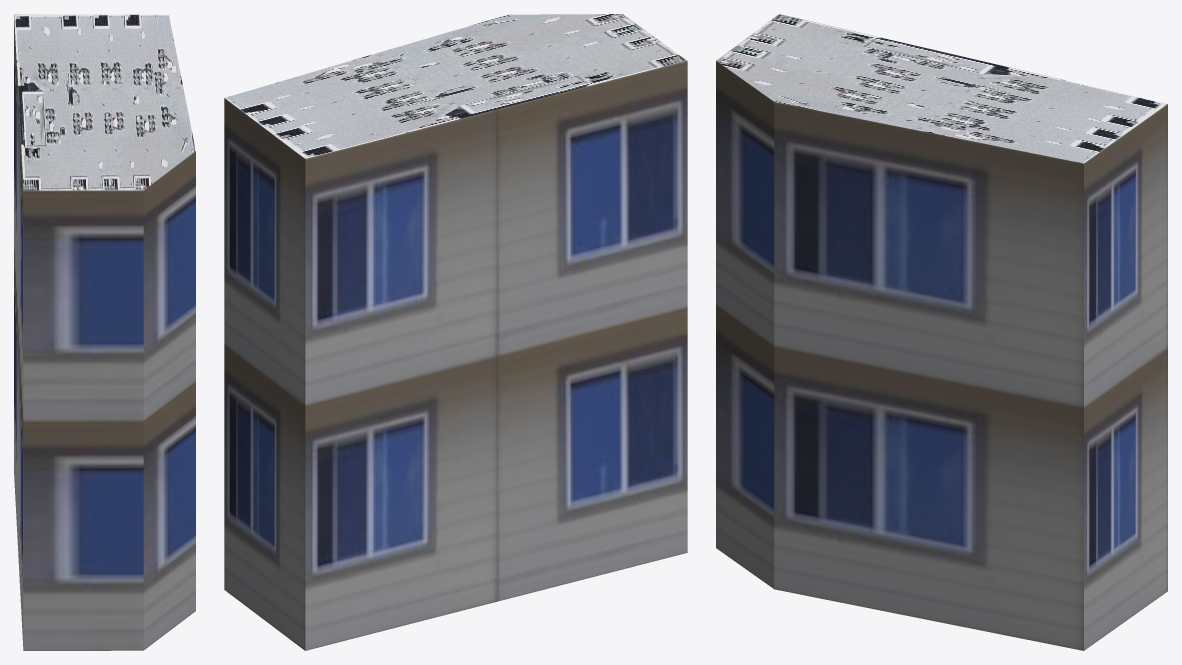
The model's file is ResTex__1209.fbx.
3 views of the same model, side by side, from view 1: azimuth 30°, elevation 25°; view 2: azimuth 150°, elevation 25°; view 3: azimuth 270°, elevation 25° (orthographic). The views are drawn at different scales.
Parts seen in each view (by area): view 1: CityEngineMaterial_23_m, CityEngineMaterial_8_m; view 2: CityEngineMaterial_23_m, CityEngineMaterial_8_m; view 3: CityEngineMaterial_23_m, CityEngineMaterial_8_m.
Boxes of the visible parts, <box> form: CityEngineMaterial_23_m: <box>14,15,195,650</box>; CityEngineMaterial_8_m: <box>14,14,195,190</box>; CityEngineMaterial_23_m: <box>224,61,687,650</box>; CityEngineMaterial_8_m: <box>225,14,686,158</box>; CityEngineMaterial_23_m: <box>716,61,1167,650</box>; CityEngineMaterial_8_m: <box>716,14,1167,163</box>.
Bounding box in the file's own units: 3.95 × 6 × 5.04.
2 materials, 2 textured.
